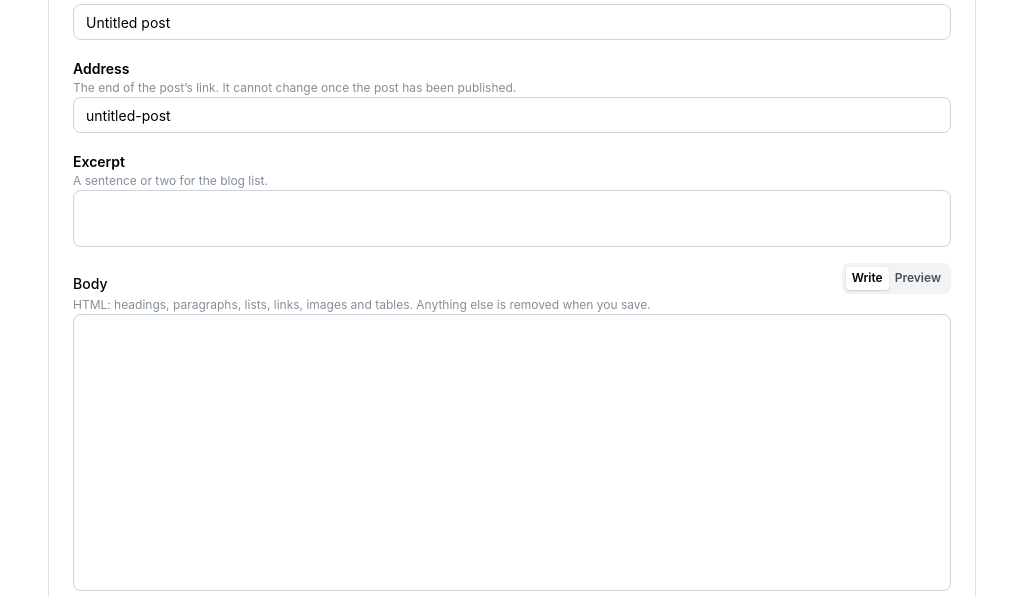
it: PostEditorRoute › saves what was typed and shows the version the server stored
The image size is (1024, 597).
Replace the text in the field labelled "Title *" with "Why watercolour": (512, 22) [73,4,951,40]
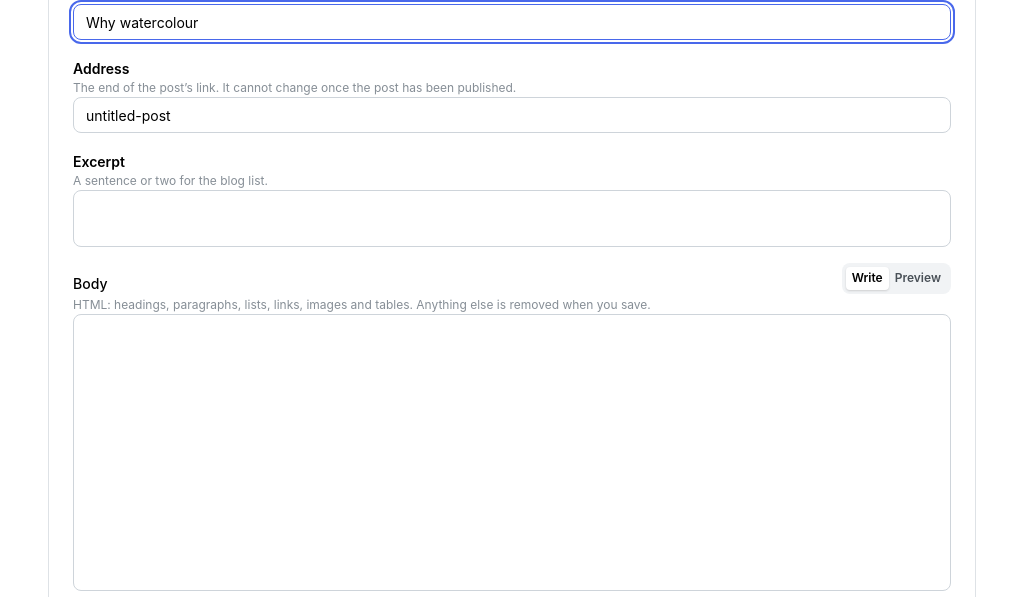
Replace the text in the field labelled "Address" with "why-watercolour": (512, 115) [73,97,951,133]
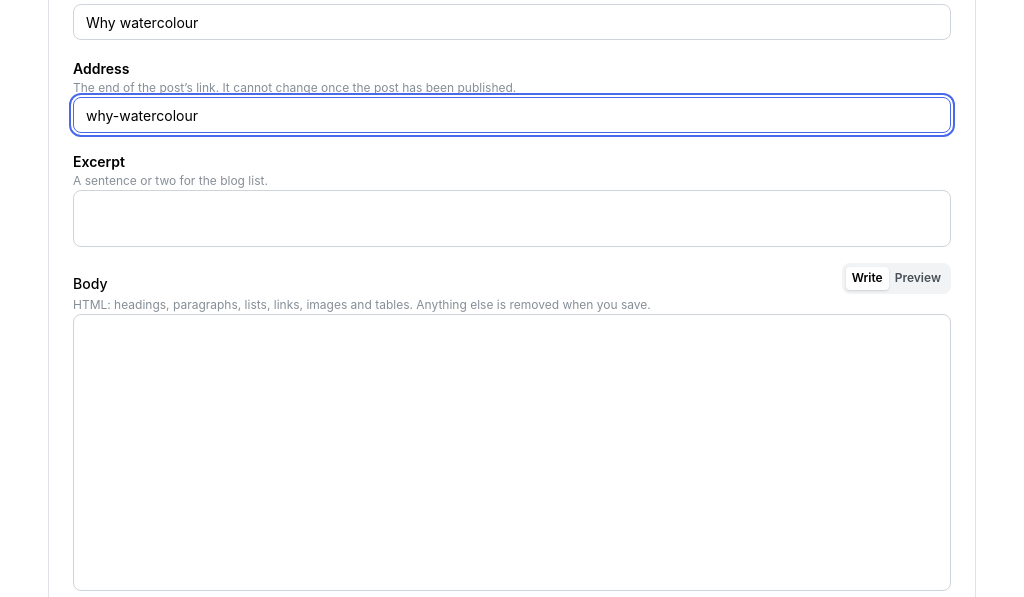
In the text box named "Body": (512, 453) [73,314,951,592], type "<p>Start wet.</p><script>x</script>"
(page scrolled)
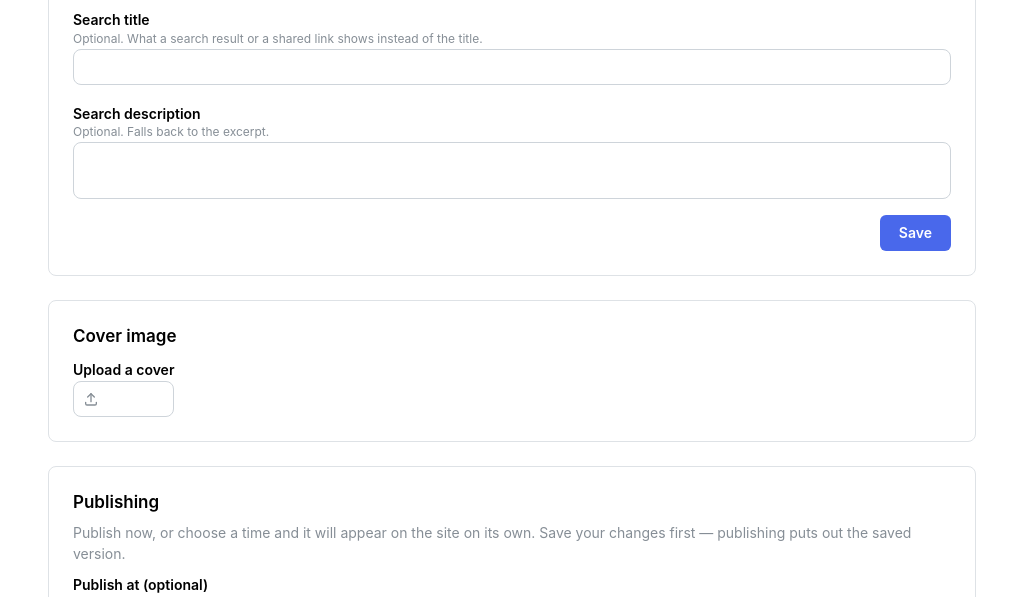
Click the button "Save": click(915, 233) [880,215,951,251]
(page scrolled)
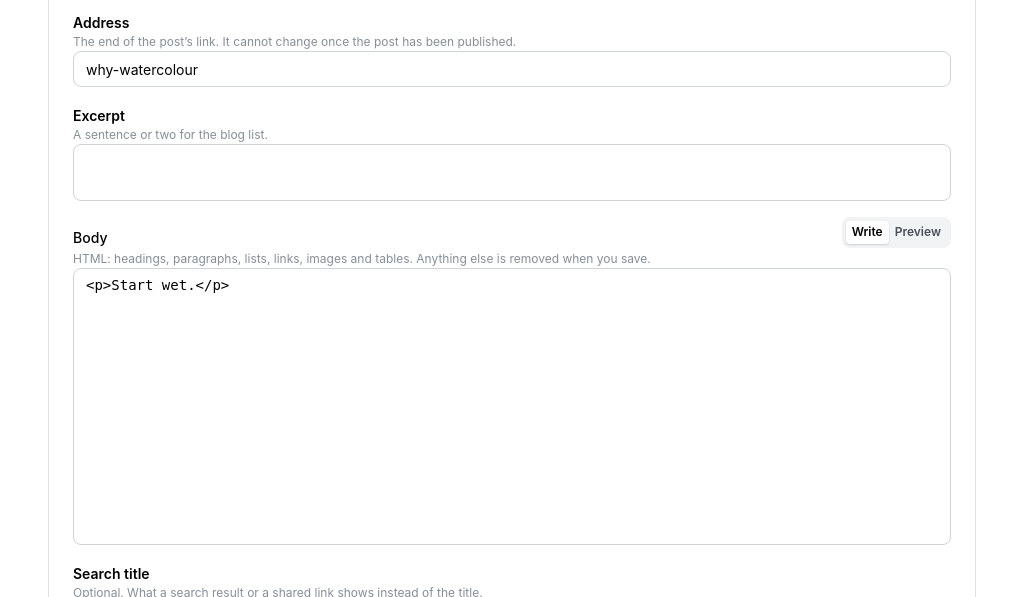
The preview is the SAVED body — sanitised — not what was typed.
Click the radio button labelled "Preview": click(918, 232) [895,224,941,240]
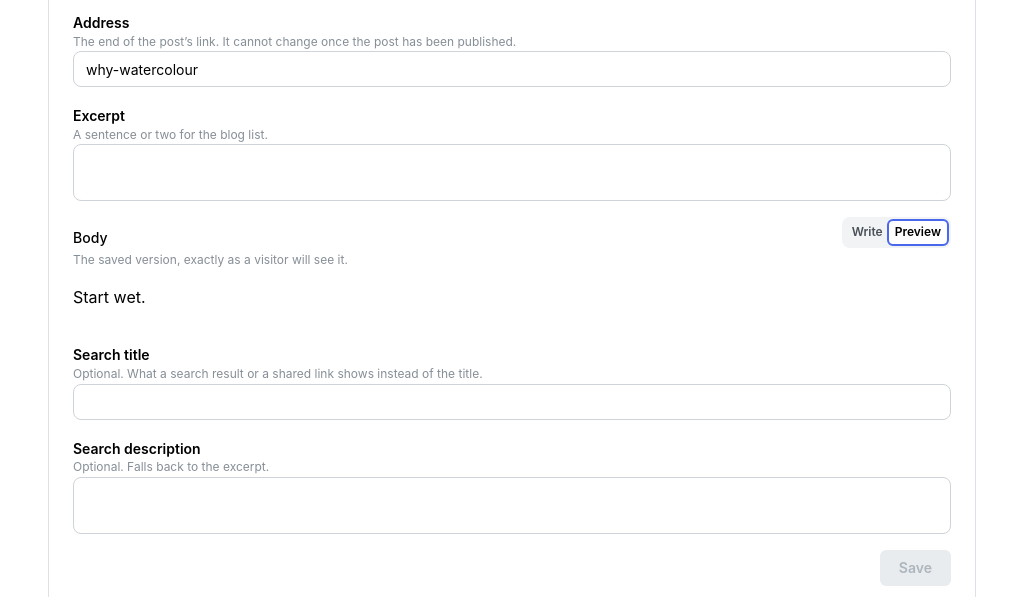
Now the text "Start wet." is shown, box [73,287,146,307]
